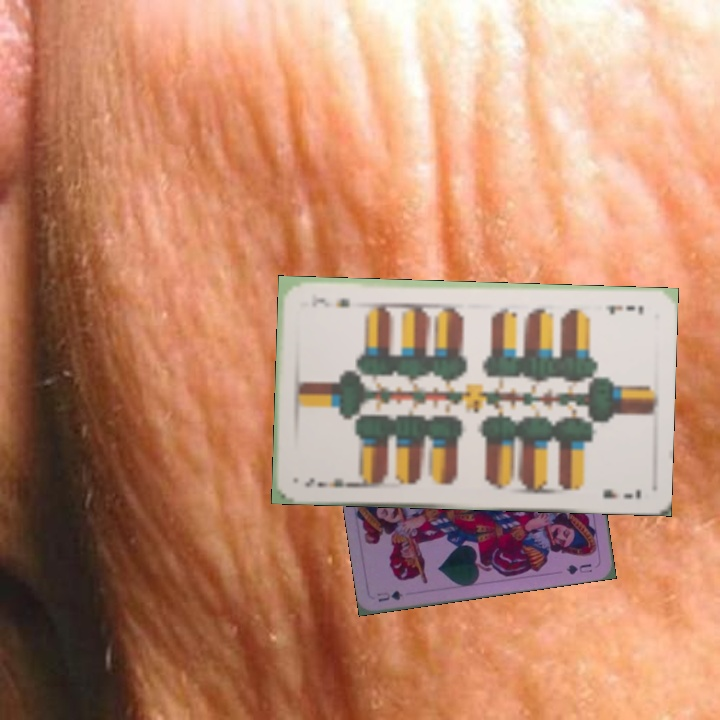E7: (301, 473, 356, 491), (603, 300, 646, 318)
GU: (373, 586, 405, 604)
